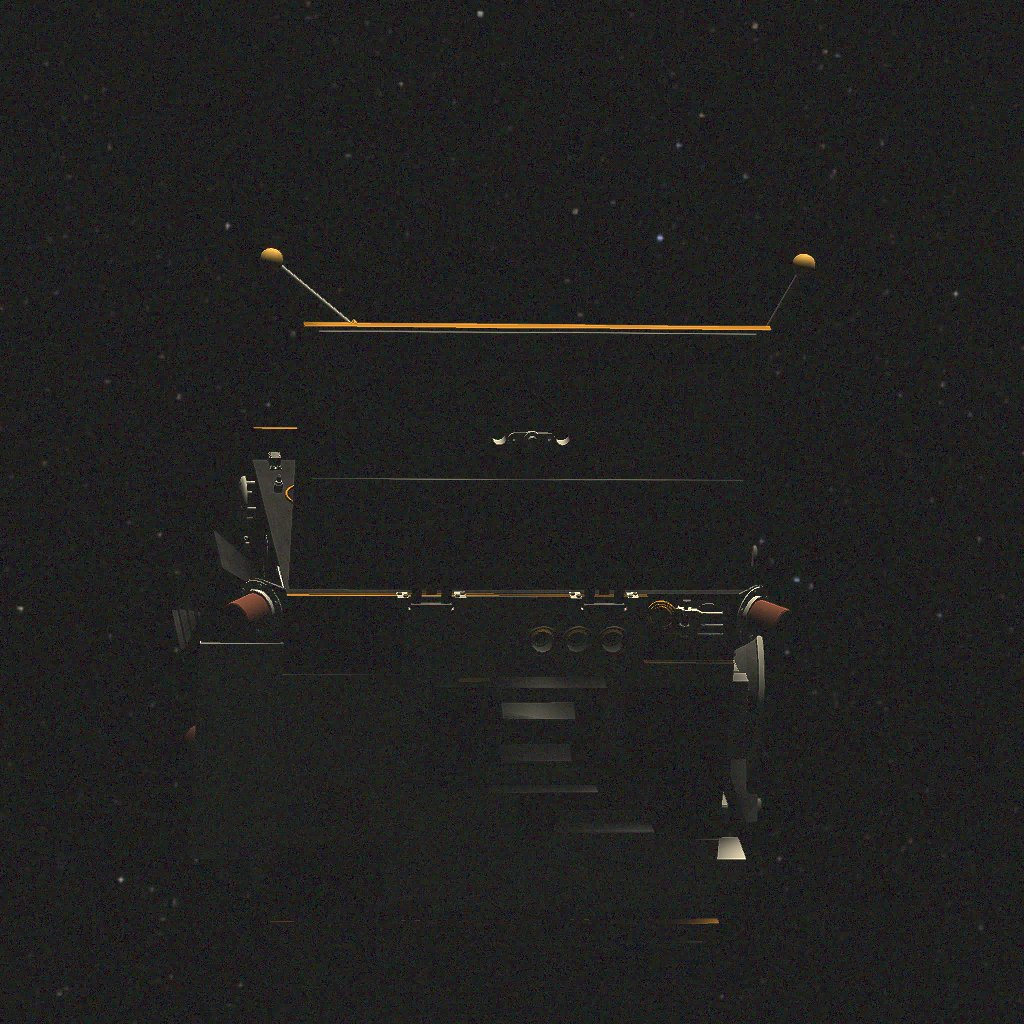proba_2: (177, 250, 809, 973)
